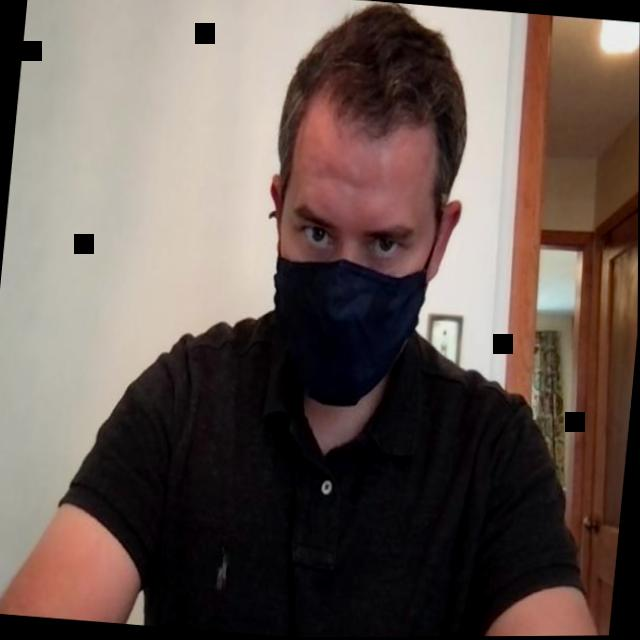Mask: (251, 0, 477, 414)
